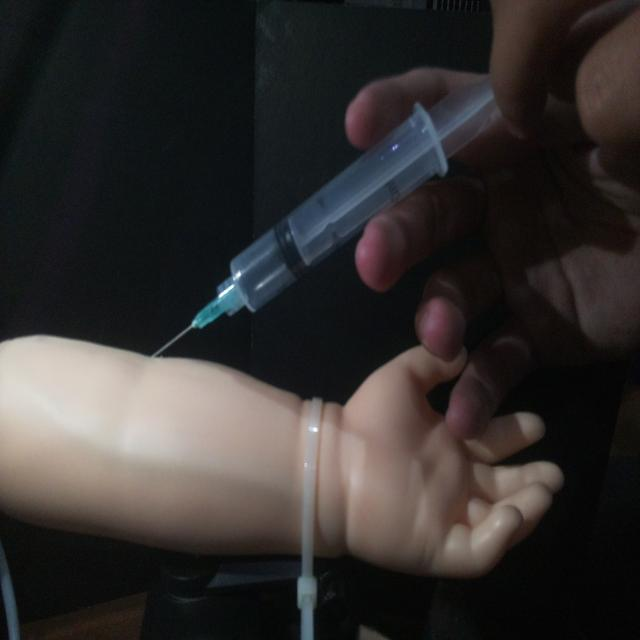25deg: (147, 70, 505, 360)
